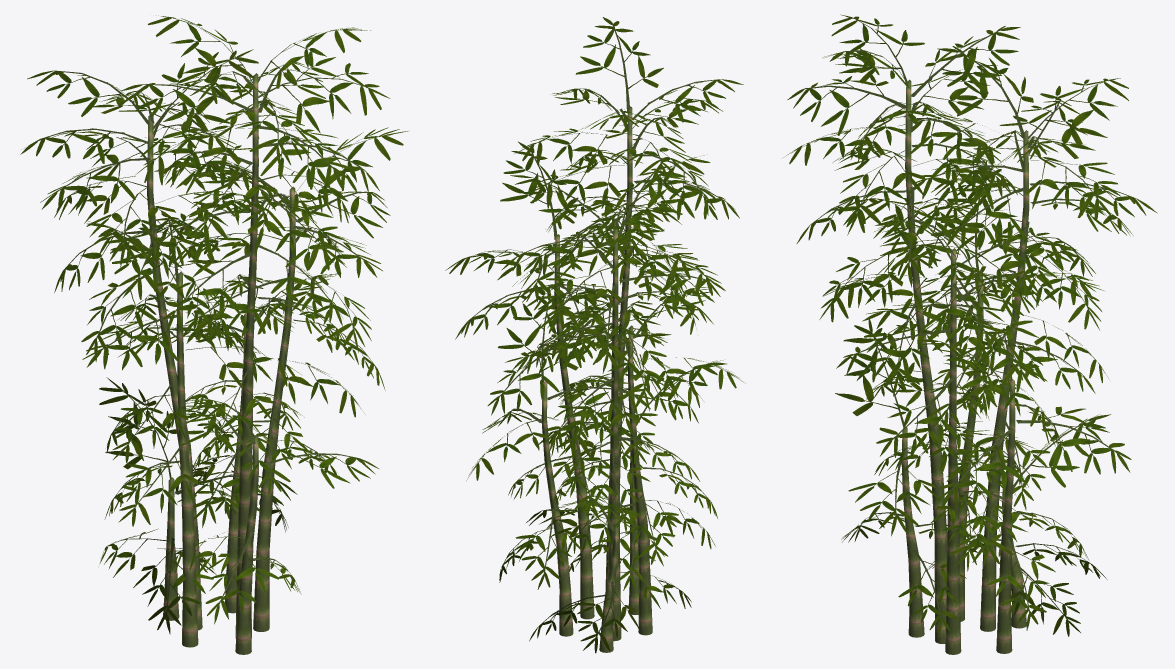
The model's file is bamboo.glb.
3 views of the same model, side by side, from view 1: azimuth 30°, elevation 25°; view 2: azimuth 150°, elevation 25°; view 3: azimuth 270°, elevation 25° (orthographic). The views are drawn at different scales.
Parts seen in each view (by area): view 1: Tree_1_Tree_1Mat_0, Tree_0_Tree_0Mat_0; view 2: Tree_1_Tree_1Mat_0, Tree_0_Tree_0Mat_0; view 3: Tree_1_Tree_1Mat_0, Tree_0_Tree_0Mat_0.
Part boxes in pixels (x1,y1,x2,y2): Tree_1_Tree_1Mat_0: [20, 15, 409, 634]; Tree_0_Tree_0Mat_0: [147, 73, 295, 654]; Tree_1_Tree_1Mat_0: [445, 17, 744, 653]; Tree_0_Tree_0Mat_0: [541, 106, 652, 652]; Tree_1_Tree_1Mat_0: [783, 14, 1157, 637]; Tree_0_Tree_0Mat_0: [901, 79, 1029, 654].
Bounding box in the file's own units: 2.45 × 4.4 × 2.49.
2 materials, 2 textured.
